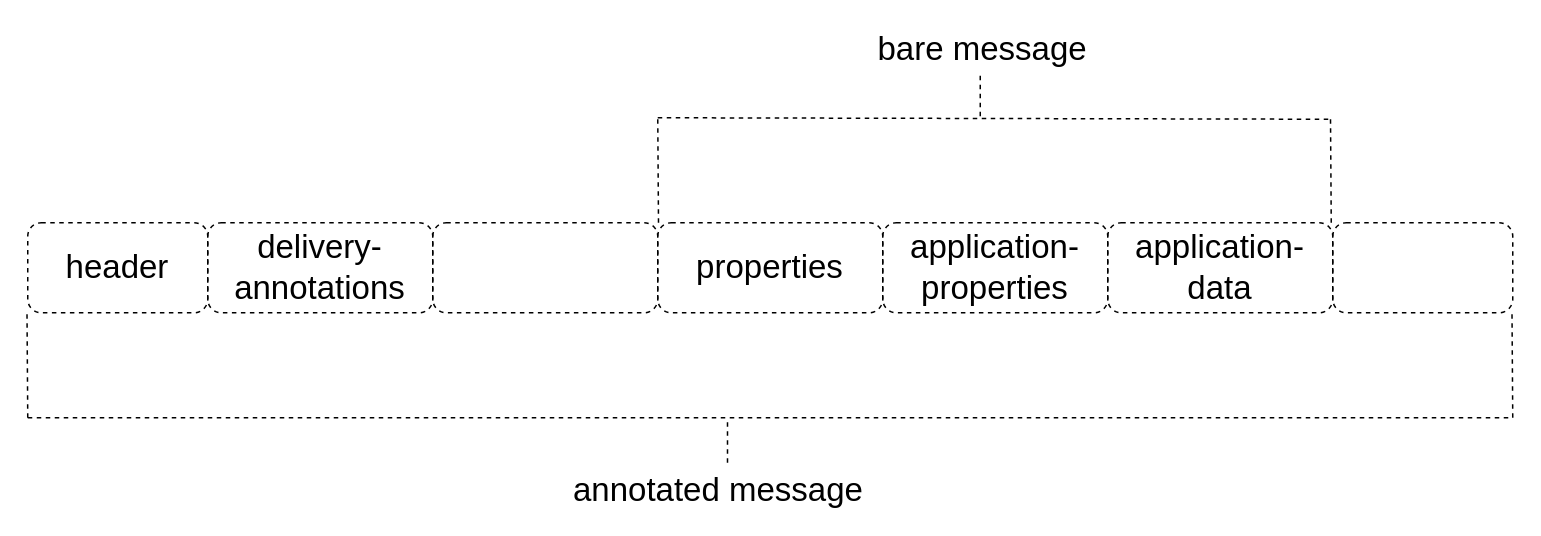
This 1541x536 diagram has some shape labels left out. The centre of each missing label's shape, as x and y in pixels:
footer: point 1422,267
message-annotations: point 544,267
